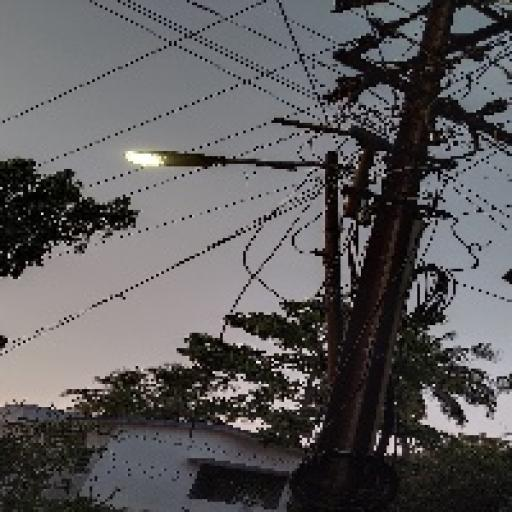Working: (118, 135, 223, 182)
